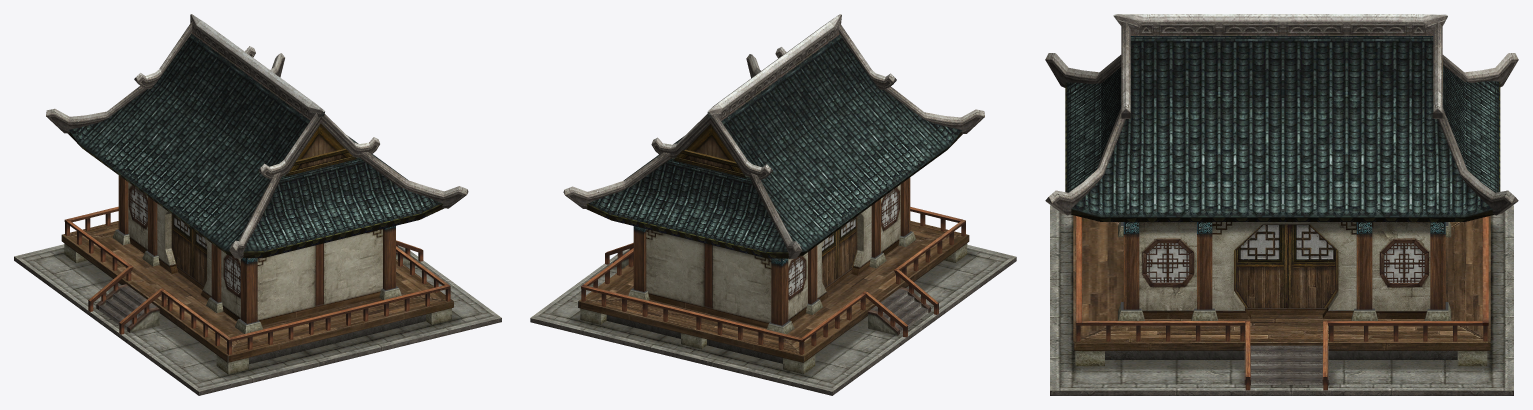
Rendered from gls_b_01.fbx.
3 renders of one model, left to right at view 1: azimuth 30°, elevation 25°; view 2: azimuth 150°, elevation 25°; view 3: azimuth 270°, elevation 25°, orthographic. The views are drawn at different scales.
Parts seen in each view (by area): view 1: gls_B_01; view 2: gls_B_01; view 3: gls_B_01.
Boxes of the visible parts, x1,y1,x2,y2 form: gls_B_01: (14,14,501,395); gls_B_01: (530,14,1016,395); gls_B_01: (1045,14,1518,395).
Size of the model in its own units: 14.73 by 10.7 by 15.9.
